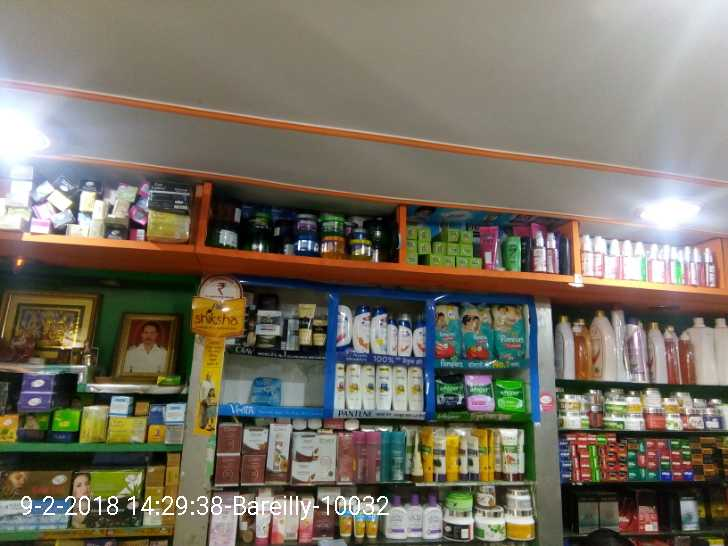venus: (250, 376, 281, 402)
